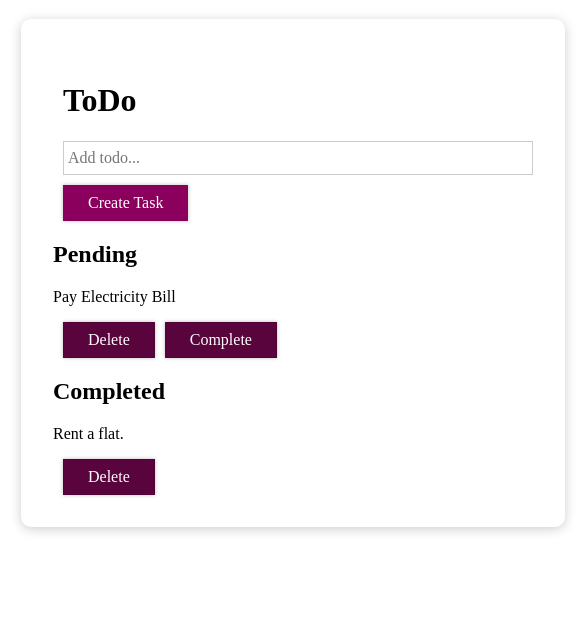
Test: Add task Component › render single todo on screen
This screenshot has width=587, height=637.
Type "Go Shopping" into the field with placeholder "Add todo..." at x=298, y=158, box [63,141,533,175]
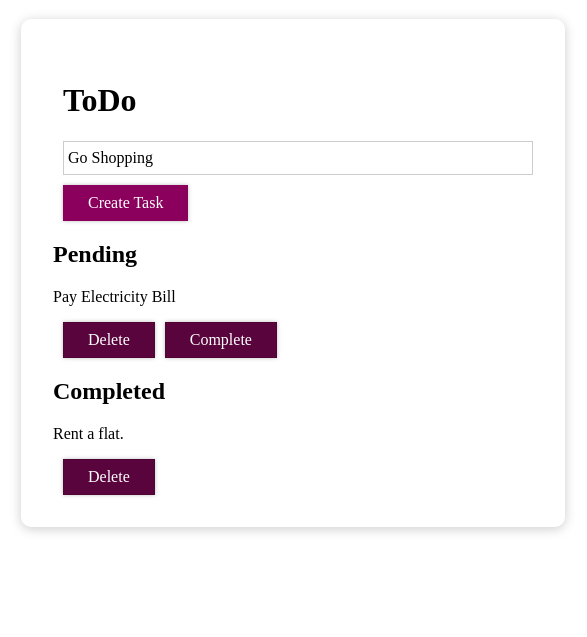
Click the button "Create Task" at x=126, y=203, box [63,185,188,221]
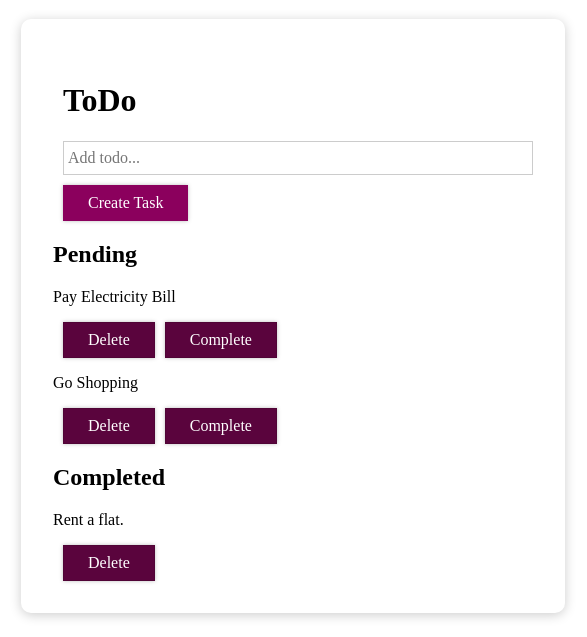
Now the text "Go Shopping" is shown, box [53,374,138,391]
